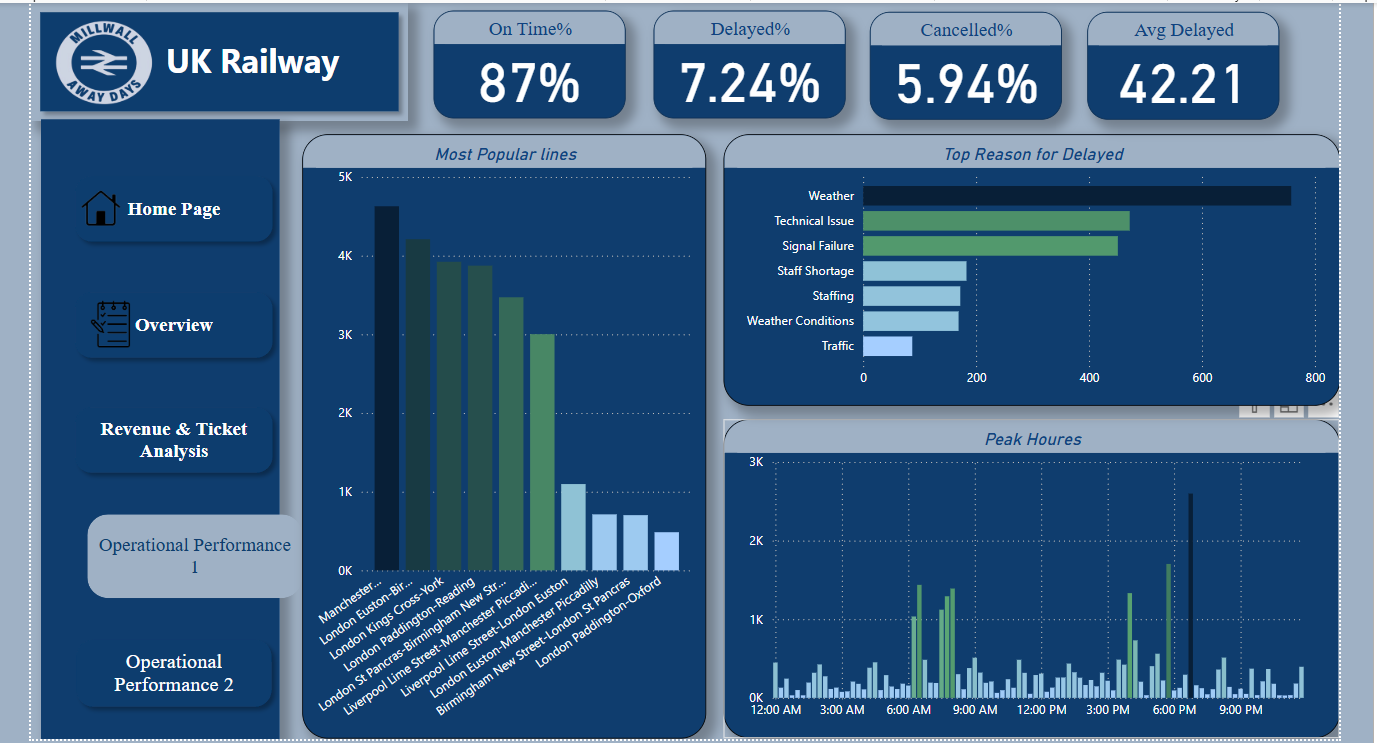

This screenshot's page, from the dashboard's own definition file:
{"tool":"powerbi","page":{"name":"Operational Performance 1","canvas":[1280,720],"ordinal":3},"visuals":[{"type":"shape","box":[0,0,368.7,114.9],"z":0},{"type":"shape","box":[10.1,114.2,233.5,606.4],"z":1000,"group":"g1"},{"type":"textbox","box":[127.6,29.4,251.5,71.2],"z":1000},{"type":"image","box":[17.5,6.2,108.8,107.5],"z":2000},{"type":"group","id":"g1","title":"Group 1","box":[10.1,114.2,255.1,606.4],"z":3000},{"type":"card","title":"On Time%","fields":{"Values":["my measures.on time %"]},"box":[394,7.5,188.1,106],"z":4000},{"type":"card","title":"Delayed%","fields":{"Values":["my measures.Delayed%"]},"box":[609,7.5,188.1,106],"z":5000},{"type":"card","title":"Cancelled%","fields":{"Values":["my measures.canceled %"]},"box":[820.9,9,188.1,106],"z":6000},{"type":"shape","box":[34.1,387.1,211,82.2],"z":6000,"group":"g1"},{"type":"shape","box":[35.2,613.4,209,83.6],"z":7000},{"type":"columnChart","title":"Most Popular lines","fields":{"Category":["clean_railway.line"],"Y":["my measures.num"]},"box":[265.7,128.4,395.5,591],"z":8000},{"type":"shape","box":[54.8,500.3,210.4,82.1],"z":8000,"group":"g1"},{"type":"columnChart","title":"Peak Houres","fields":{"Category":["clean_railway.Departure_Time"],"Y":["my measures.num"]},"box":[677,407.5,603,311.9],"z":9000},{"type":"clusteredBarChart","title":"Top Reason for Delayed","fields":{"Category":["clean_railway.Reason_for_Delay"],"Y":["my measures.num of dalayed"]},"box":[677,128.4,603,265.7],"z":10000},{"type":"card","title":"Avg Delayed","fields":{"Values":["my measures.Avg_Arrival_Delay"]},"box":[1032.8,9,188.1,106],"z":11000},{"type":"shape","box":[34.1,273.9,211,82.2],"z":13000,"group":"g1"},{"type":"shape","box":[34.1,160.7,211,82.2],"z":14000,"group":"g1"},{"type":"image","box":[50.4,285.8,55.2,58.2],"z":15000,"group":"g1"},{"type":"image","box":[41.7,175.4,56.4,52.8],"z":15502,"group":"g1"}]}

Visuals, with their boxes on the page's 1280x720 design canvas (x1, y1, x2, y2). These are canvas units, not pixel positions in the 1377x743 screenshot, which may show the page scaled, cropped or inside an application window:
shape: {"left": 0, "top": 0, "right": 369, "bottom": 115}
shape: {"left": 10, "top": 114, "right": 244, "bottom": 721}
textbox: {"left": 128, "top": 29, "right": 379, "bottom": 101}
image: {"left": 18, "top": 6, "right": 126, "bottom": 114}
"Group 1" group: {"left": 10, "top": 114, "right": 265, "bottom": 721}
"On Time%" card: {"left": 394, "top": 8, "right": 582, "bottom": 114}
"Delayed%" card: {"left": 609, "top": 8, "right": 797, "bottom": 114}
"Cancelled%" card: {"left": 821, "top": 9, "right": 1009, "bottom": 115}
shape: {"left": 34, "top": 387, "right": 245, "bottom": 469}
shape: {"left": 35, "top": 613, "right": 244, "bottom": 697}
"Most Popular lines" columnChart: {"left": 266, "top": 128, "right": 661, "bottom": 719}
shape: {"left": 55, "top": 500, "right": 265, "bottom": 582}
"Peak Houres" columnChart: {"left": 677, "top": 408, "right": 1280, "bottom": 719}
"Top Reason for Delayed" clusteredBarChart: {"left": 677, "top": 128, "right": 1280, "bottom": 394}
"Avg Delayed" card: {"left": 1033, "top": 9, "right": 1221, "bottom": 115}
shape: {"left": 34, "top": 274, "right": 245, "bottom": 356}
shape: {"left": 34, "top": 161, "right": 245, "bottom": 243}
image: {"left": 50, "top": 286, "right": 106, "bottom": 344}
image: {"left": 42, "top": 175, "right": 98, "bottom": 228}
